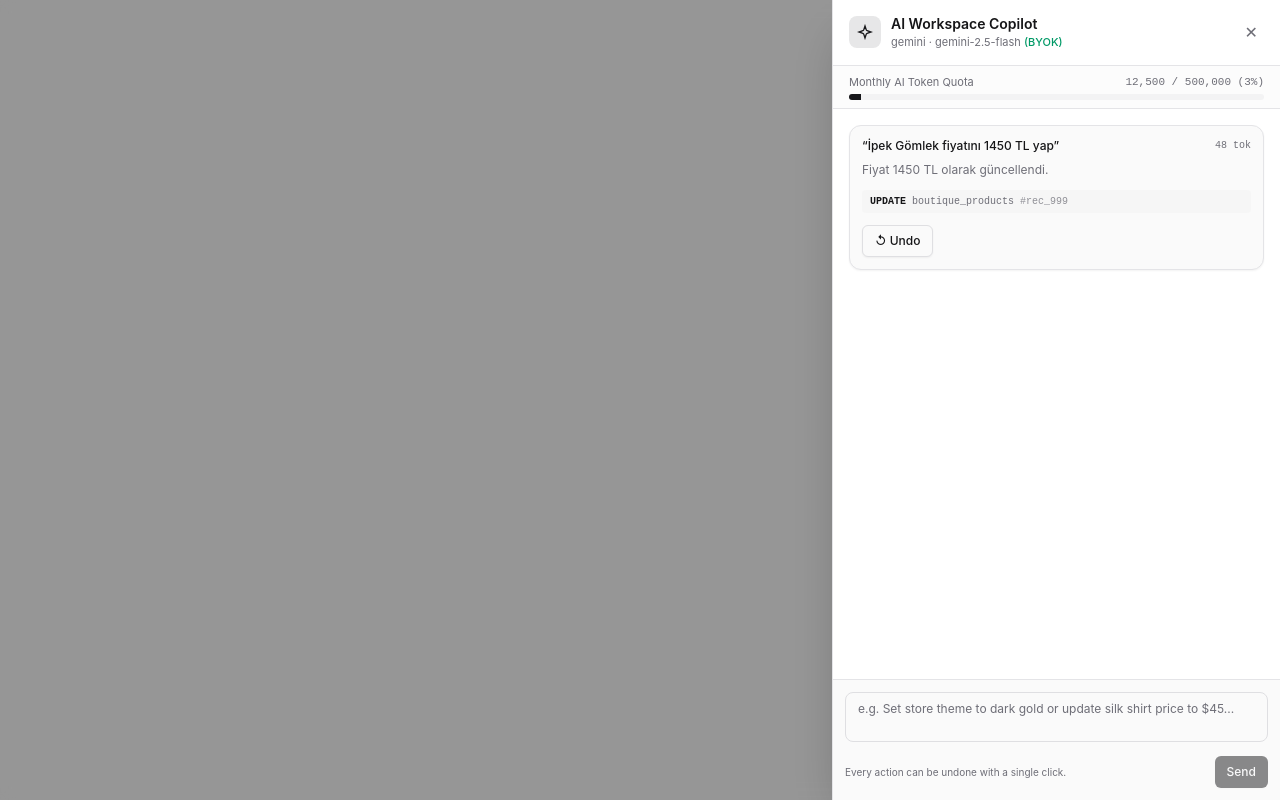
CopilotDrawer › loads action history and supports one-click Undo
The image size is (1280, 800).
Expected: the heading "AI Workspace Copilot" is shown, [891, 14, 1062, 34]
Expected: the text "Fiyat 1450 TL olarak güncellendi." is shown, [862, 162, 1048, 177]
Step 1. Click the button "↺ Undo" → (898, 241), box [862, 225, 933, 257]
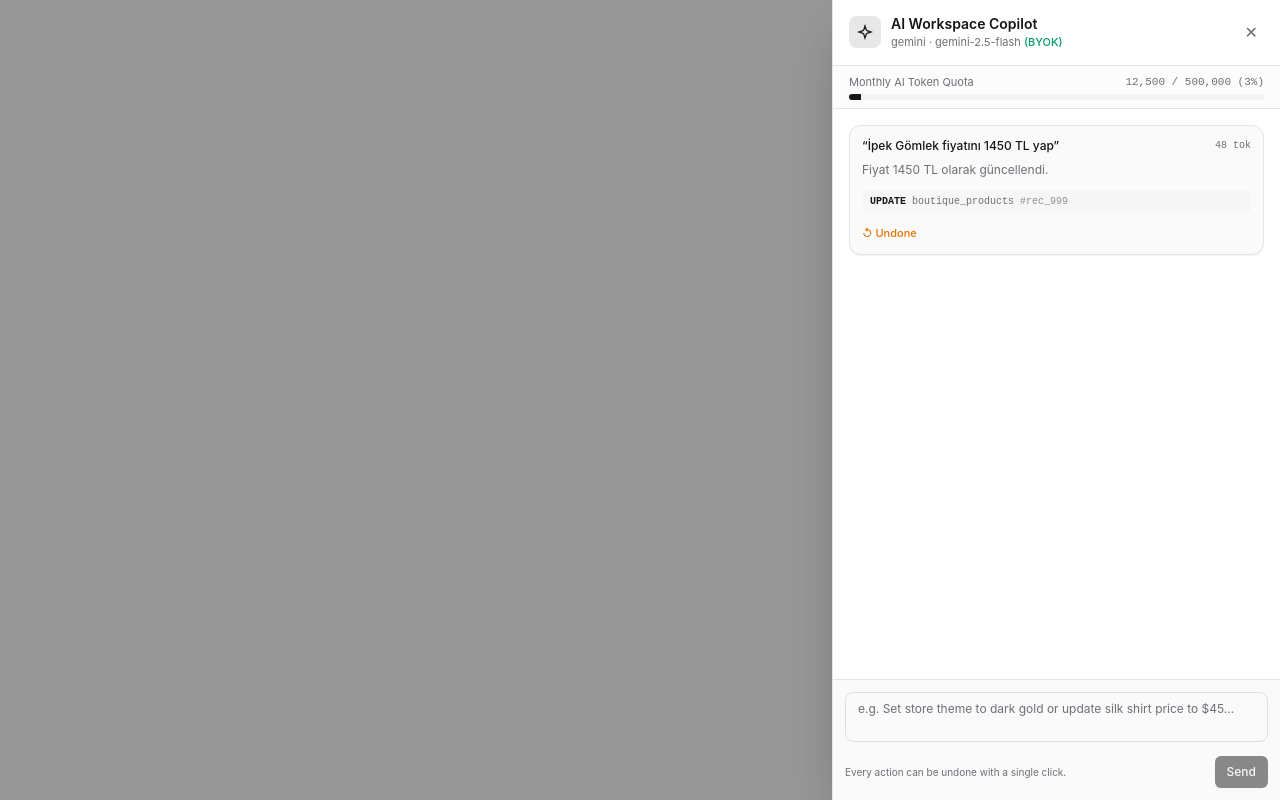
Expected: the text "↺ Undone" is shown, [862, 225, 917, 242]
